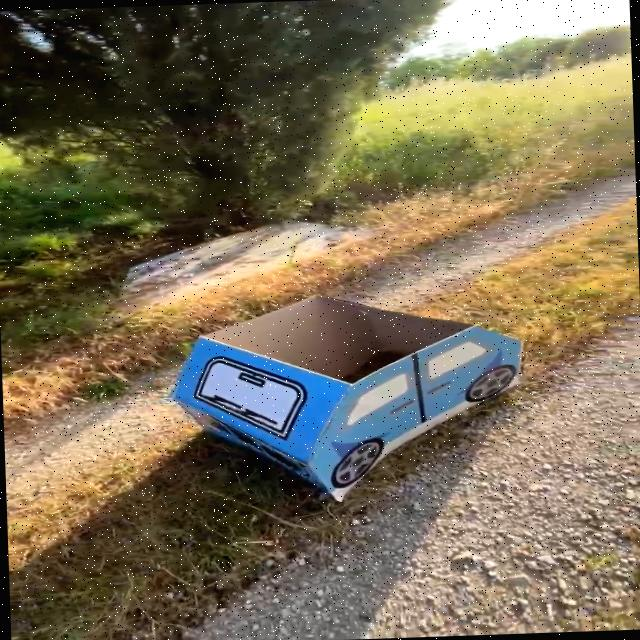blue_car: (141, 248, 551, 524)
